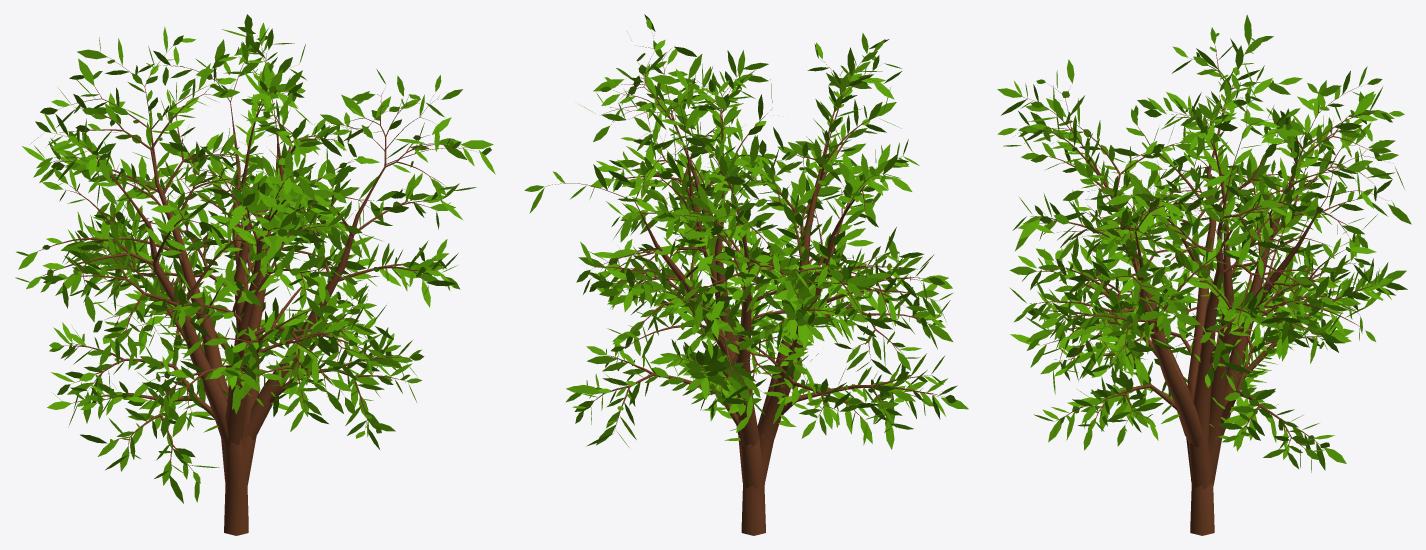
File: tree_03.glb
3 views of the same model, side by side, from view 1: azimuth 30°, elevation 25°; view 2: azimuth 150°, elevation 25°; view 3: azimuth 270°, elevation 25° (orthographic).
Visible parts, largest first — view 1: leaves, tree_03; view 2: leaves, tree_03; view 3: leaves, tree_03.
Part boxes in pixels (x1,y1,x2,y2): leaves: [15, 14, 495, 503]; tree_03: [39, 33, 475, 535]; leaves: [524, 14, 968, 449]; tree_03: [545, 35, 944, 535]; leaves: [997, 14, 1411, 472]; tree_03: [1020, 44, 1391, 535].
Bounding box in the file's own units: 14.54 × 16.89 × 13.11.
